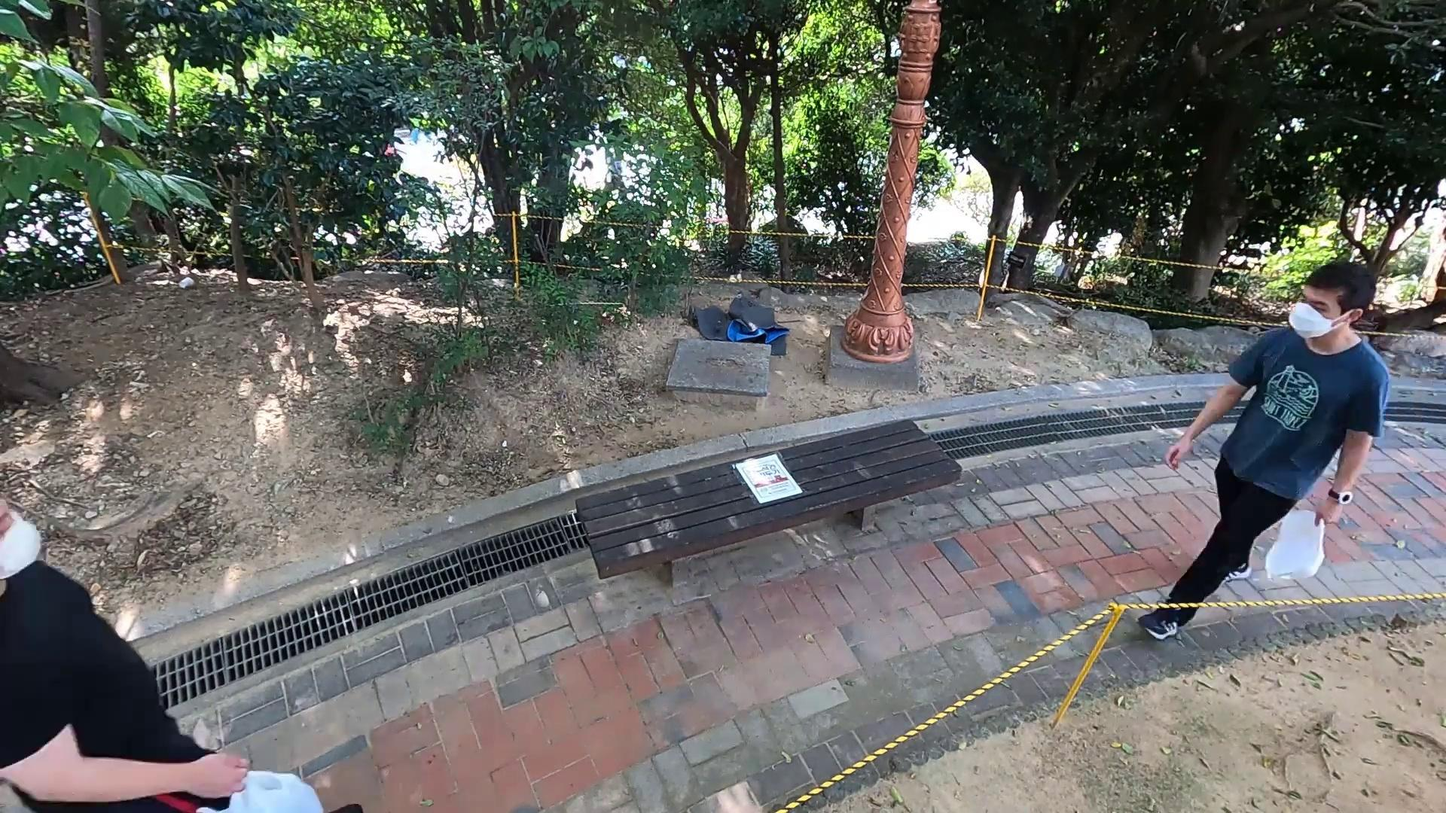person: (0, 449, 385, 813), (1145, 260, 1396, 650)
trash: (678, 281, 795, 370)
